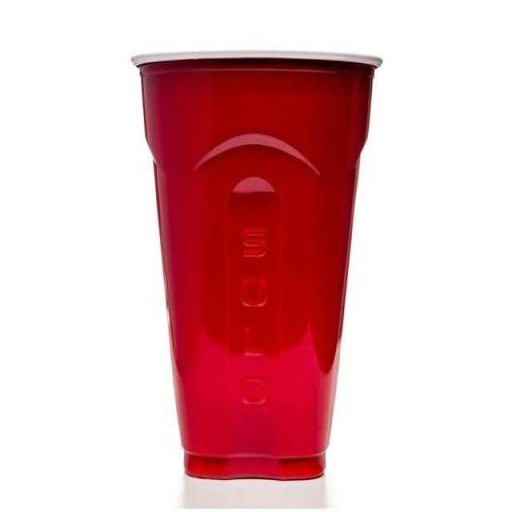cup: (131, 50, 383, 482)
